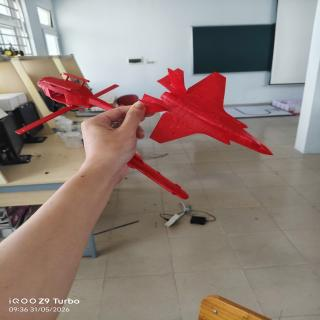Helicopter: (13, 70, 119, 134)
Jet: (142, 66, 274, 156)
Rocket: (127, 155, 190, 199)
